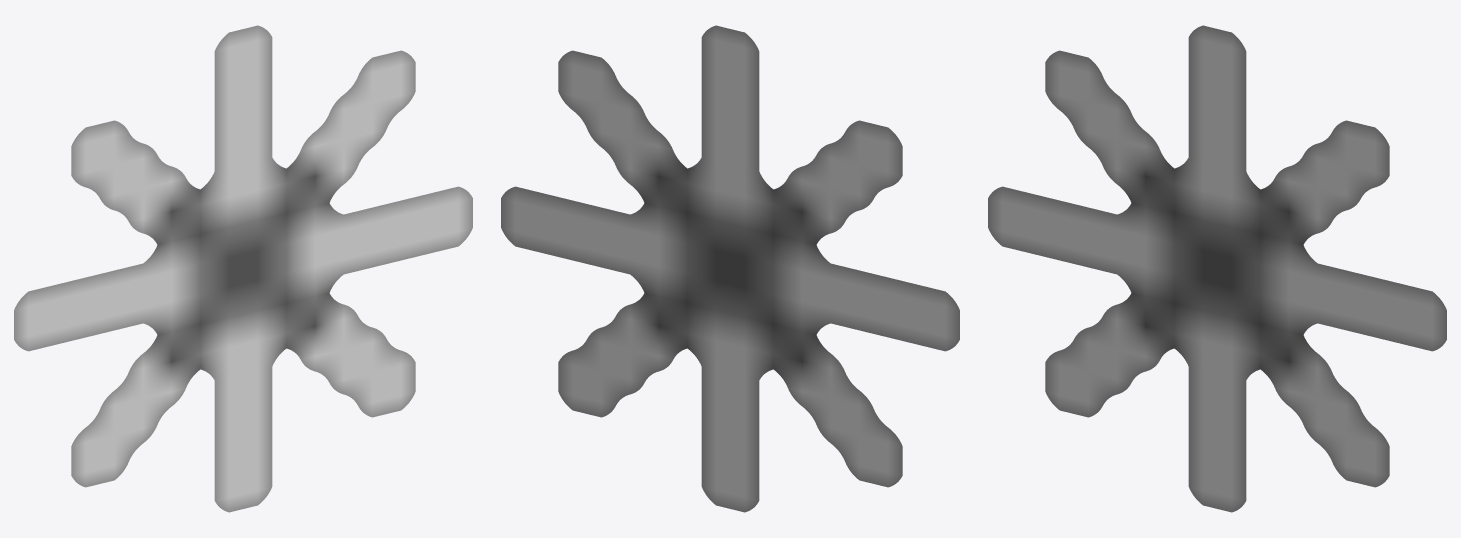
Rendered from helice.obj.
The picture shows the model from 3 angles, left to right: view 1: azimuth 30°, elevation 25°; view 2: azimuth 150°, elevation 25°; view 3: azimuth 330°, elevation 25°; orthographic projection.
Parts seen in each view (by area): view 1: helice; view 2: helice; view 3: helice.
Part boxes in pixels (x1,y1,x2,y2): helice: (14,25,472,512); helice: (501,25,959,512); helice: (988,25,1446,512).
Bounding box in the file's own units: 1 × 1 × 0.
Materials: 1 (1 with a texture image).
